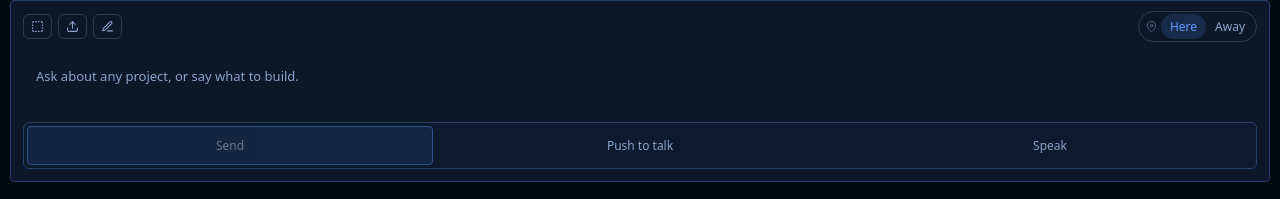
Test: clicking it seeds the compose prompt — and does nothing else › puts the compose prompt in the box
Check: the text box named "Message" is empty, box [23,56,1257,114]
Click the button named "Write a post": (108, 26) [93,14,122,39]
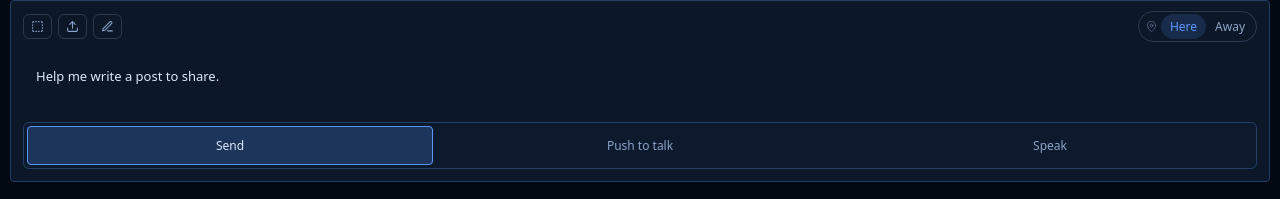
Check: the text box named "Message" holds "Help me write a post to share.", box [23,56,1257,114]
